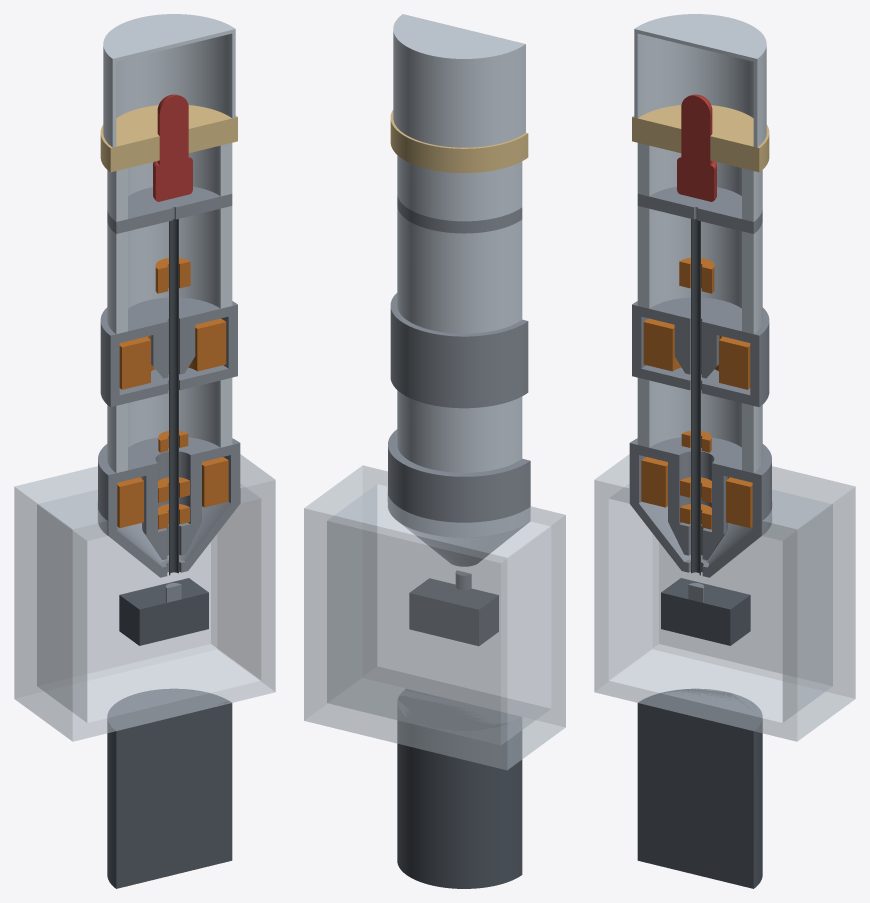
Rendered from layout-section.glb.
3 renders of one model, left to right at view 1: azimuth 30°, elevation 25°; view 2: azimuth 150°, elevation 25°; view 3: azimuth 330°, elevation 25°, orthographic.
Parts seen in each view (by area): view 1: chamber-placeholder, turbo-pump-placeholder, grounded-can, spacer-condenser-to-gun, spacer-objective-to-condenser, objective-upper-pole, peek-insulator, condenser-upper-pole, stage-placeholder, liner-tube, gun-housing, objective-lower-pole (+9 smaller); view 2: chamber-placeholder, turbo-pump-placeholder, grounded-can, spacer-condenser-to-gun, spacer-objective-to-condenser, condenser-shell-ring, objective-shell-ring, gun-housing, stage-placeholder, peek-insulator, objective-lower-pole, objective-upper-pole (+3 smaller); view 3: chamber-placeholder, turbo-pump-placeholder, grounded-can, spacer-condenser-to-gun, spacer-objective-to-condenser, objective-upper-pole, peek-insulator, condenser-upper-pole, stage-placeholder, liner-tube, gun-housing, objective-lower-pole (+9 smaller).
Part boxes in pixels (<box>): chamber-placeholder: <box>14,454,275,741</box>; turbo-pump-placeholder: <box>107,688,232,888</box>; grounded-can: <box>103,14,235,147</box>; spacer-condenser-to-gun: <box>107,206,232,334</box>; spacer-objective-to-condenser: <box>107,377,232,472</box>; objective-upper-pole: <box>98,437,240,559</box>; peek-insulator: <box>100,105,237,172</box>; condenser-upper-pole: <box>100,297,237,378</box>; stage-placeholder: <box>119,578,208,645</box>; liner-tube: <box>169,219,178,575</box>; gun-housing: <box>107,143,232,221</box>; objective-lower-pole: <box>98,496,240,577</box>; chamber-placeholder: <box>304,465,565,770</box>; turbo-pump-placeholder: <box>397,689,522,888</box>; grounded-can: <box>393,14,525,147</box>; spacer-condenser-to-gun: <box>397,207,522,333</box>; spacer-objective-to-condenser: <box>397,390,522,472</box>; condenser-shell-ring: <box>390,318,528,398</box>; objective-shell-ring: <box>388,457,530,529</box>; gun-housing: <box>397,155,522,221</box>; stage-placeholder: <box>409,578,498,645</box>; peek-insulator: <box>390,110,528,172</box>; objective-lower-pole: <box>388,502,530,566</box>; objective-upper-pole: <box>388,429,530,486</box>; chamber-placeholder: <box>594,454,855,741</box>; turbo-pump-placeholder: <box>637,688,762,888</box>; grounded-can: <box>634,14,766,147</box>; spacer-condenser-to-gun: <box>637,206,762,334</box>; spacer-objective-to-condenser: <box>637,377,762,472</box>; objective-upper-pole: <box>629,437,771,559</box>; peek-insulator: <box>632,105,769,172</box>; condenser-upper-pole: <box>632,297,769,378</box>; stage-placeholder: <box>661,578,750,645</box>; liner-tube: <box>691,219,700,575</box>; gun-housing: <box>637,143,762,221</box>; objective-lower-pole: <box>629,496,771,577</box>.
Size of the model in its own units: 175 by 685 by 87.5.
